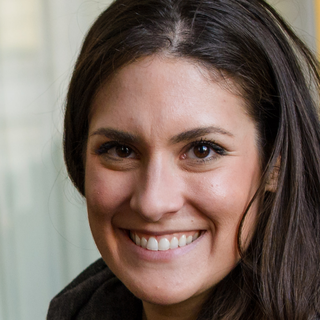eye: (179, 136, 228, 164), (96, 139, 142, 163)
